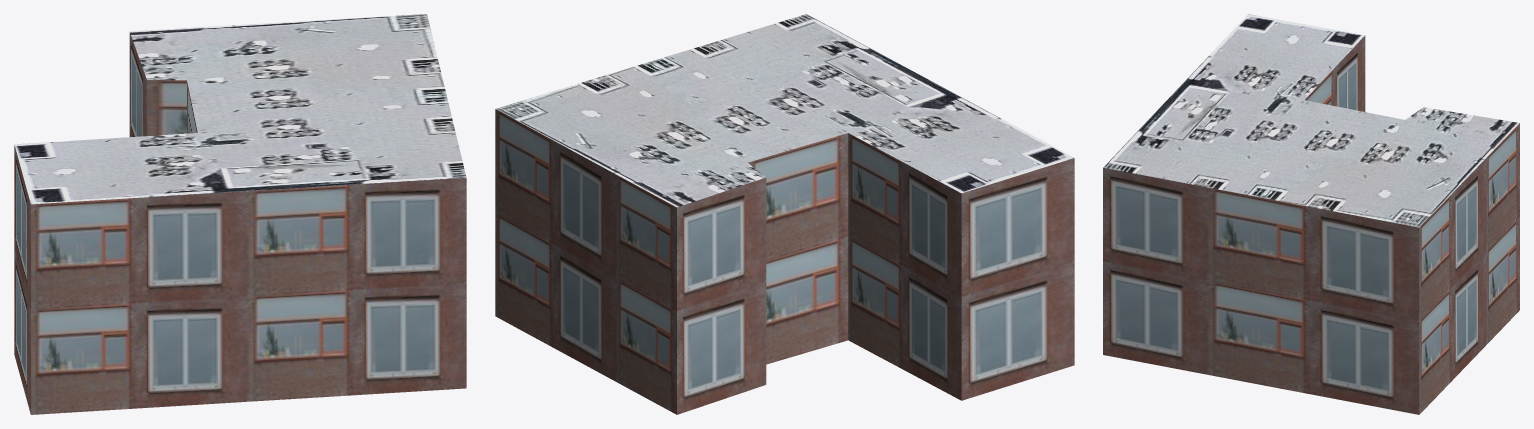
The model's file is ResTex__885.fbx.
3 renders of one model, left to right at view 1: azimuth 30°, elevation 25°; view 2: azimuth 150°, elevation 25°; view 3: azimuth 270°, elevation 25°, orthographic. The views are drawn at different scales.
Visible parts, largest first — view 1: CityEngineMaterial_19_m, CityEngineMaterial_15_m; view 2: CityEngineMaterial_19_m, CityEngineMaterial_15_m; view 3: CityEngineMaterial_19_m, CityEngineMaterial_15_m.
Boxes of the visible parts, x1,y1,x2,y2 form: CityEngineMaterial_19_m: (14,32,466,414); CityEngineMaterial_15_m: (14,14,466,204); CityEngineMaterial_19_m: (495,109,1074,414); CityEngineMaterial_15_m: (496,14,1073,207); CityEngineMaterial_19_m: (1103,35,1519,414); CityEngineMaterial_15_m: (1103,14,1519,227).
Size of the model in its own units: 14.68 by 6 by 12.1.
2 materials, 2 textured.
